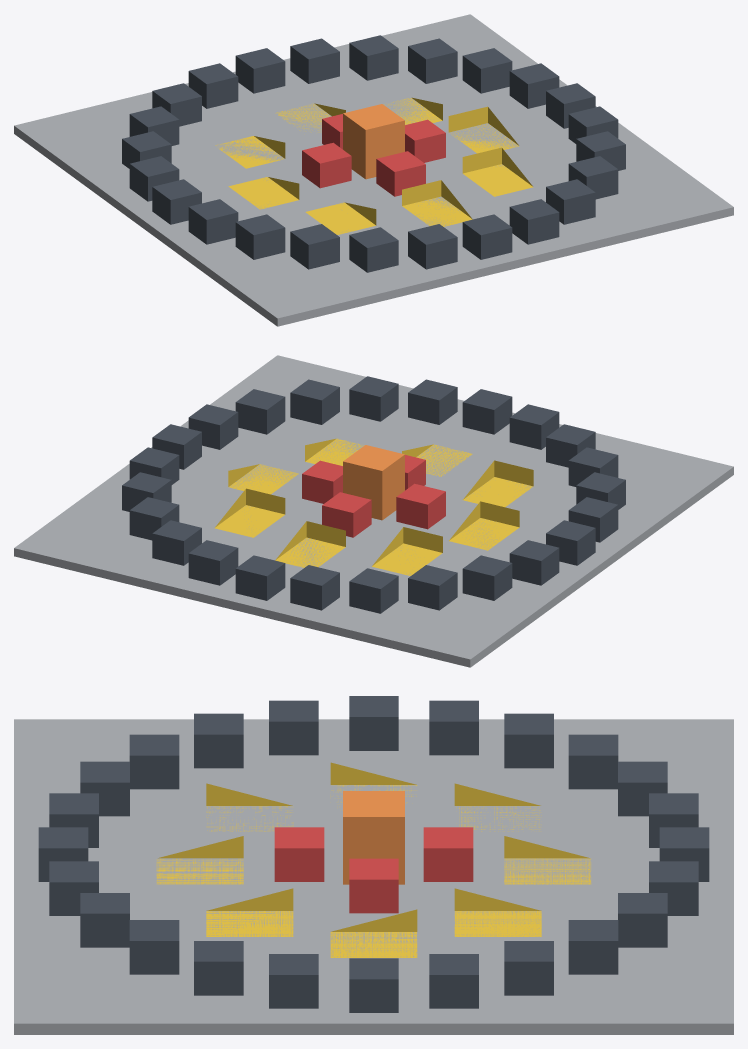
File: gpt-arena-demolicao.glb
3 views of the same model, one above another, from view 1: azimuth 30°, elevation 25°; view 2: azimuth 150°, elevation 25°; view 3: azimuth 270°, elevation 25° (orthographic). The views are drawn at different scales.
Parts seen in each view (by area): view 1: Arena de Demolição-000, Arena de Demolição-037, Arena de Demolição-028, Arena de Demolição-030, Arena de Demolição-032, Arena de Demolição-007, Arena de Demolição-011, Arena de Demolição-006, Arena de Demolição-019, Arena de Demolição-009, Arena de Demolição-021, Arena de Demolição-020 (+26 smaller); view 2: Arena de Demolição-000, Arena de Demolição-037, Arena de Demolição-026, Arena de Demolição-031, Arena de Demolição-025, Arena de Demolição-029, Arena de Demolição-027, Arena de Demolição-019, Arena de Demolição-015, Arena de Demolição-007, Arena de Demolição-020, Arena de Demolição-017 (+26 smaller); view 3: Arena de Demolição-000, Arena de Demolição-037, Arena de Demolição-028, Arena de Demolição-026, Arena de Demolição-032, Arena de Demolição-029, Arena de Demolição-030, Arena de Demolição-010, Arena de Demolição-016, Arena de Demolição-004, Arena de Demolição-022, Arena de Demolição-035 (+25 smaller).
Part boxes in pixels (box(x1,y1,x2,y2)): Arena de Demolição-000: box(14, 14, 733, 326); Arena de Demolição-037: box(343, 104, 404, 179); Arena de Demolição-028: box(462, 147, 533, 196); Arena de Demolição-030: box(402, 180, 472, 226); Arena de Demolição-032: box(448, 106, 518, 153); Arena de Demolição-007: box(462, 214, 512, 259); Arena de Demolição-011: box(235, 214, 285, 259); Arena de Demolição-006: box(509, 199, 559, 244); Arena de Demolição-019: box(235, 48, 285, 93); Arena de Demolição-009: box(349, 227, 398, 272); Arena de Demolição-021: box(349, 35, 398, 80); Arena de Demolição-020: box(290, 38, 339, 83); Arena de Demolição-000: box(14, 355, 733, 667); Arena de Demolição-037: box(343, 445, 404, 520); Arena de Demolição-026: box(214, 488, 285, 537); Arena de Demolição-031: box(449, 501, 519, 550); Arena de Demolição-025: box(372, 527, 442, 575); Arena de Demolição-029: box(275, 521, 345, 567); Arena de Demolição-027: box(463, 460, 533, 507); Arena de Demolição-019: box(235, 555, 285, 600); Arena de Demolição-015: box(462, 555, 512, 600); Arena de Demolição-007: box(462, 389, 512, 434); Arena de Demolição-020: box(188, 540, 238, 585); Arena de Demolição-017: box(349, 568, 398, 613); Arena de Demolição-000: box(14, 719, 733, 1034); Arena de Demolição-037: box(343, 791, 404, 884); Arena de Demolição-028: box(206, 888, 293, 936); Arena de Demolição-026: box(454, 888, 541, 936); Arena de Demolição-032: box(330, 909, 417, 957); Arena de Demolição-029: box(504, 836, 591, 884); Arena de Demolição-030: box(156, 836, 243, 884); Arena de Demolição-010: box(129, 734, 179, 789); Arena de Demolição-016: box(568, 734, 618, 789); Arena de Demolição-004: box(129, 920, 179, 974); Arena de Demolição-022: box(568, 920, 618, 974); Arena de Demolição-035: box(423, 827, 473, 881).
Size of the model in its own units: 58 by 7 by 58.
